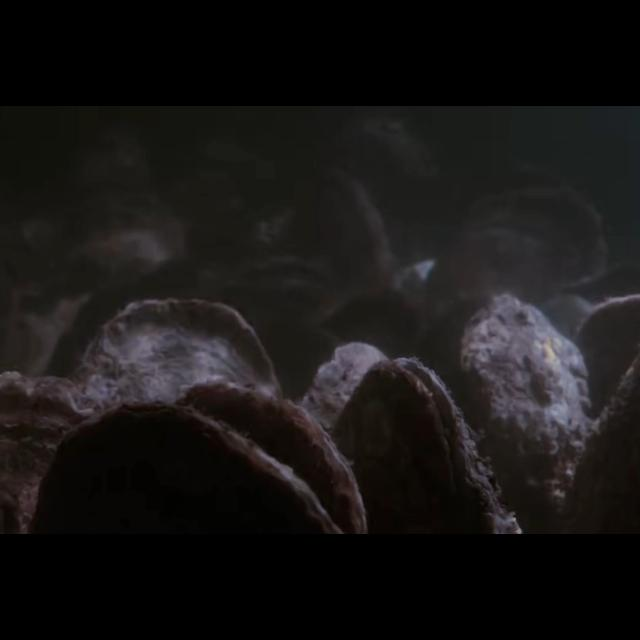Oyster-Closed: (70, 300, 280, 534), (32, 400, 342, 534), (457, 294, 591, 534), (172, 380, 368, 534), (422, 187, 608, 333), (294, 342, 392, 534), (0, 369, 104, 535), (288, 166, 399, 300), (55, 199, 188, 295), (572, 294, 640, 442)
Oyster-Open: (332, 357, 520, 535), (216, 254, 338, 324)
